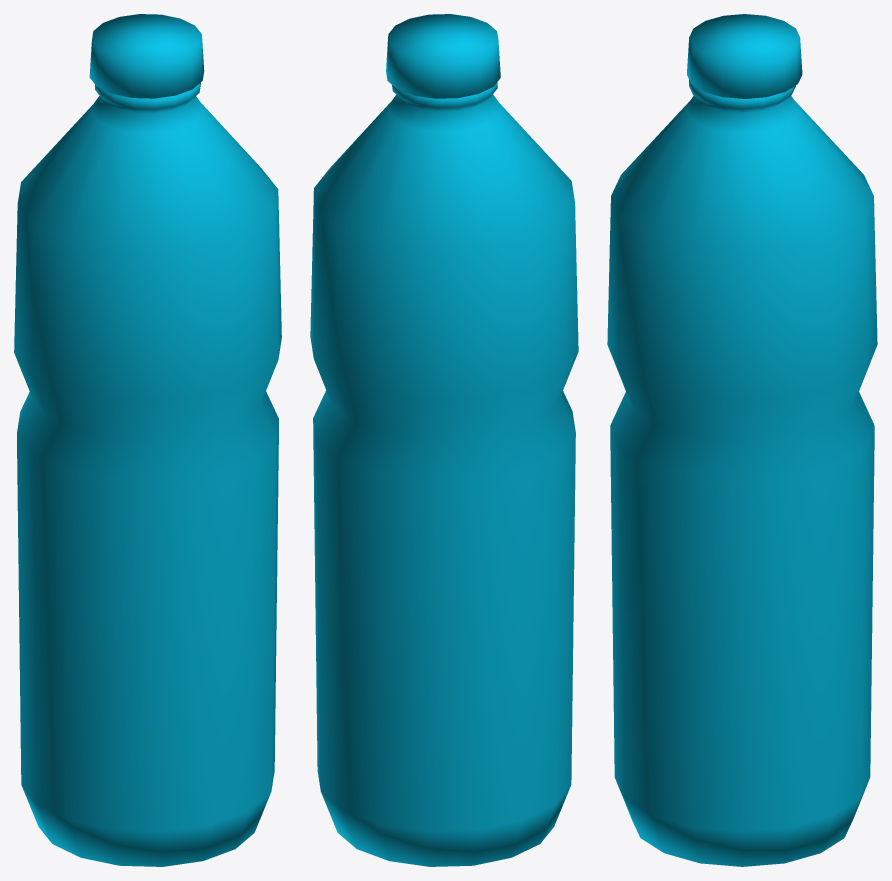
The model's file is Bottle_Water_01_Lod0.fbx.
3 renders of one model, left to right at view 1: azimuth 30°, elevation 25°; view 2: azimuth 150°, elevation 25°; view 3: azimuth 270°, elevation 25°, orthographic.
Parts seen in each view (by area): view 1: Bottle_Water_01_Lod0; view 2: Bottle_Water_01_Lod0; view 3: Bottle_Water_01_Lod0.
Part boxes in pixels (x1=…): Bottle_Water_01_Lod0: x1=14, y1=14, x2=281, y2=866; Bottle_Water_01_Lod0: x1=310, y1=14, x2=578, y2=866; Bottle_Water_01_Lod0: x1=607, y1=14, x2=877, y2=866.
Size of the model in its own units: 8.97 by 28.85 by 8.97.
